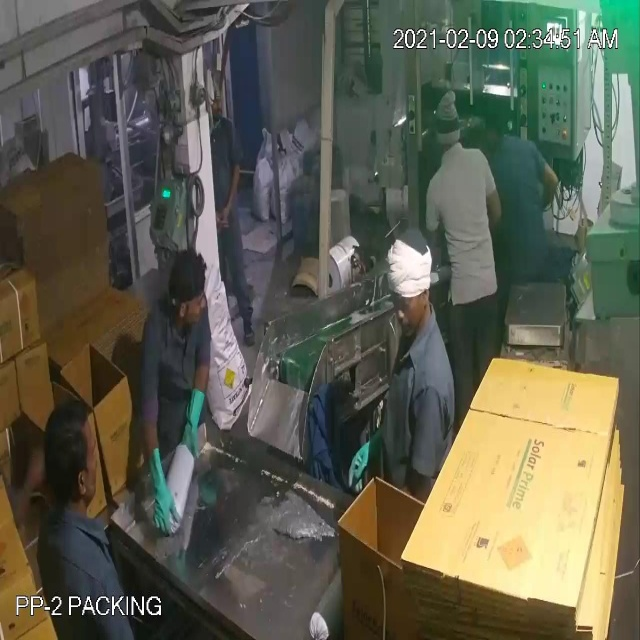Guantes: (134, 438, 189, 545), (344, 420, 402, 497), (169, 387, 216, 468)
